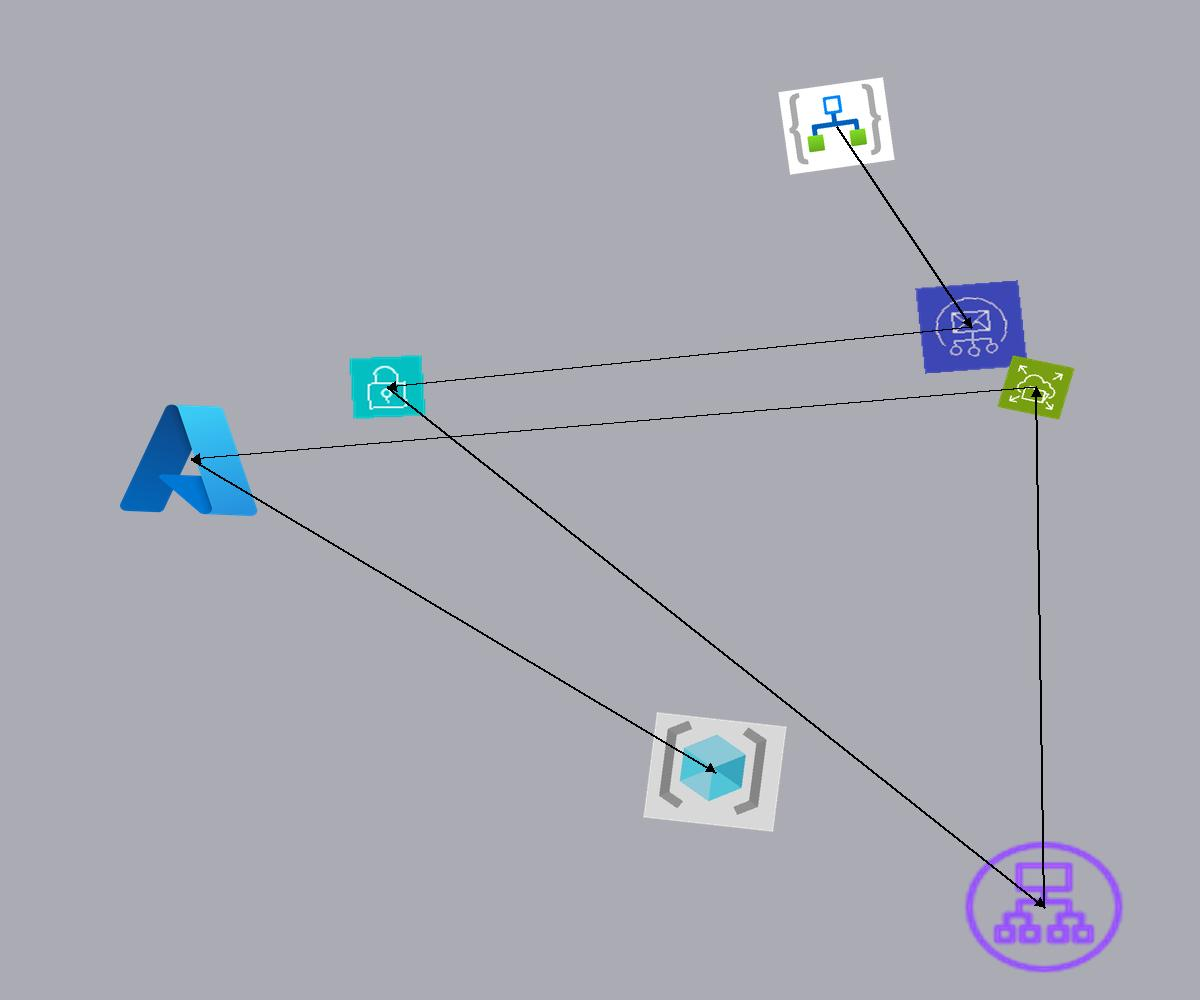AWS-EFS: (997, 355, 1075, 420)
AWS-Private-subnet: (348, 354, 427, 420)
AWS-Res_Elastic-Load-Balancing_Application-Load-Balancer: (955, 833, 1133, 981)
AWS-Simple-Email-Service: (915, 280, 1028, 374)
Azure_integration-204-Logic-Apps: (778, 77, 895, 175)
Azure_resource_group: (643, 712, 787, 832)
Azure_services: (113, 394, 270, 525)
